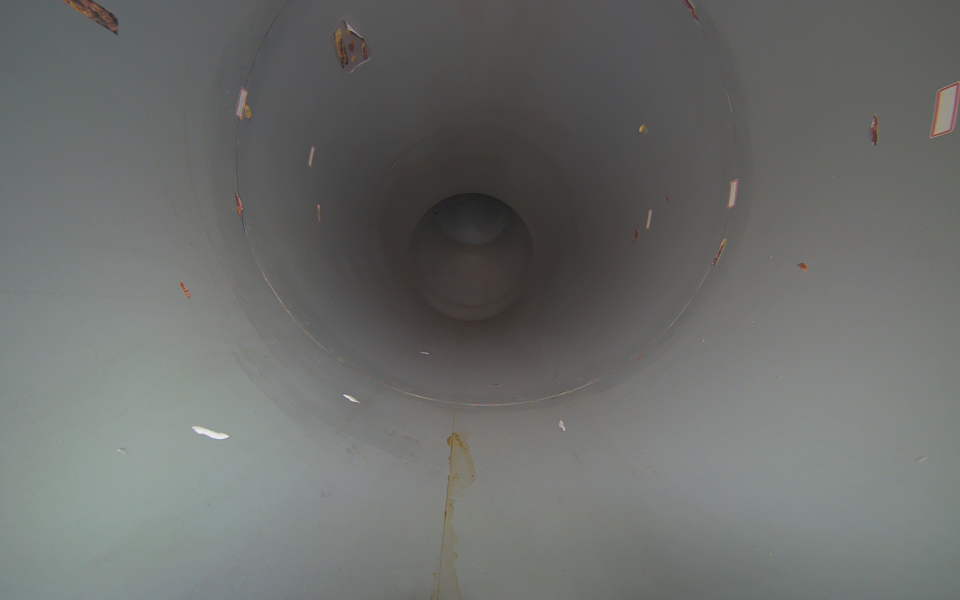circle1: (232, 0, 743, 411)
circle2: (402, 188, 539, 327)
